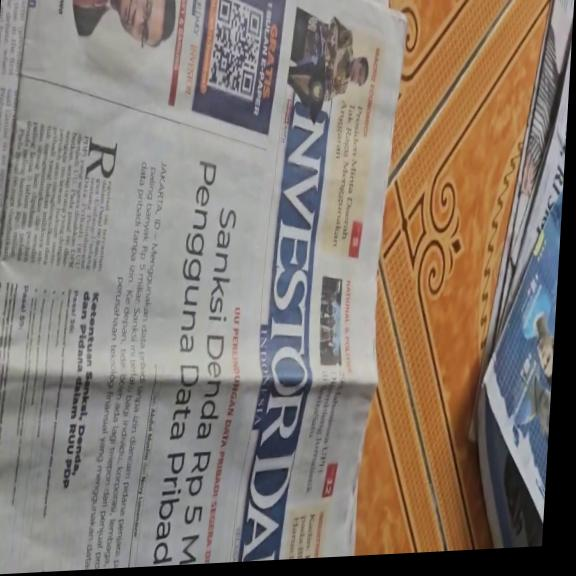Kertas: (0, 11, 385, 565)
